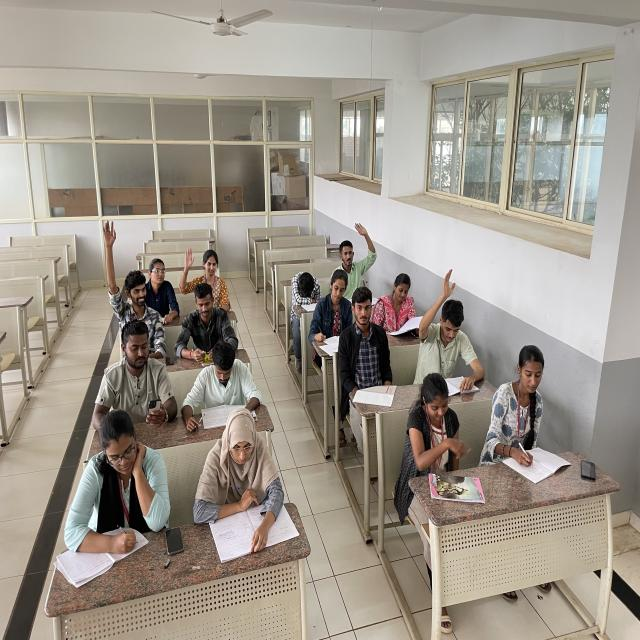Hand Rising: (95, 220, 163, 332), (419, 265, 477, 384), (175, 239, 232, 300), (330, 223, 379, 279)
Reading: (192, 406, 295, 556), (396, 372, 478, 487), (175, 338, 269, 429), (337, 284, 392, 402), (374, 272, 427, 338)
Sleeping: (287, 264, 326, 330)
Using Phone: (93, 317, 181, 427)
Writing: (49, 408, 180, 560), (488, 344, 558, 482), (313, 266, 353, 356)
